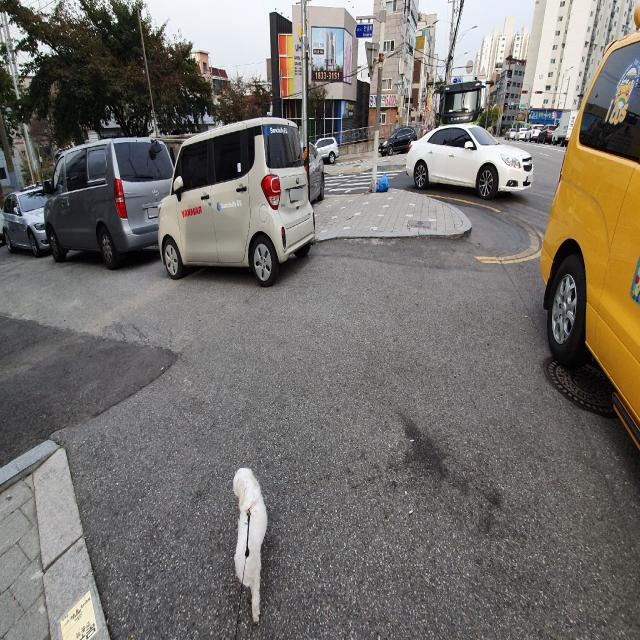횡단보도: (324, 170, 405, 194)
